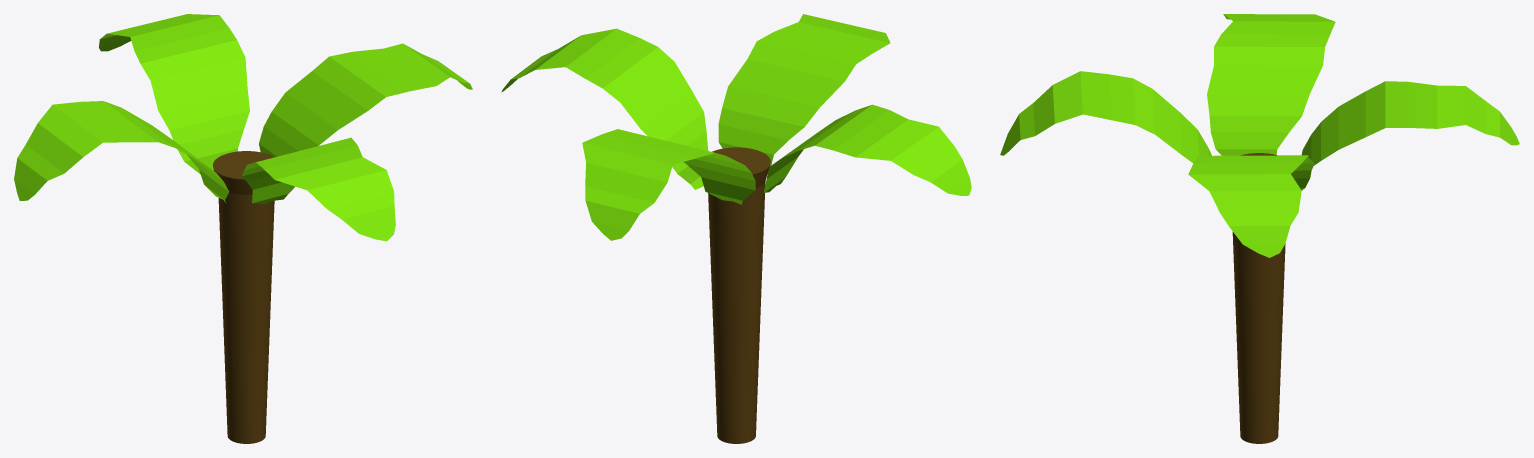
The model's file is lowpoly_tree.fbx.
3 renders of one model, left to right at view 1: azimuth 30°, elevation 25°; view 2: azimuth 150°, elevation 25°; view 3: azimuth 270°, elevation 25°, orthographic.
Visible parts, largest first — view 1: Circle, Cone; view 2: Circle, Cone; view 3: Circle, Cone.
Part boxes in pixels (bbox=[...]): Circle: bbox=[14, 14, 472, 241]; Cone: bbox=[213, 151, 274, 443]; Circle: bbox=[501, 14, 971, 240]; Cone: bbox=[708, 147, 770, 443]; Circle: bbox=[1000, 14, 1519, 257]; Cone: bbox=[1232, 153, 1285, 443].
Size of the model in its own units: 359 by 258 by 359.
